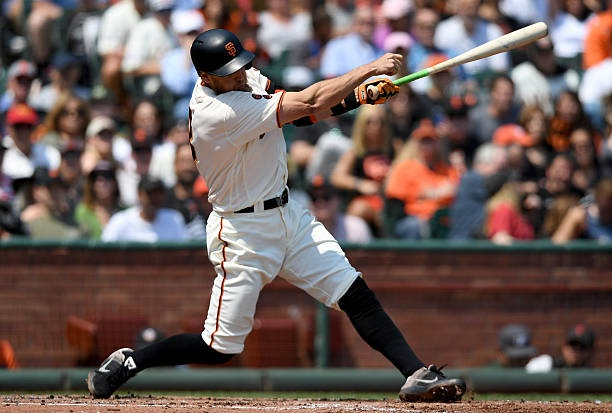bita: (360, 24, 546, 99)
